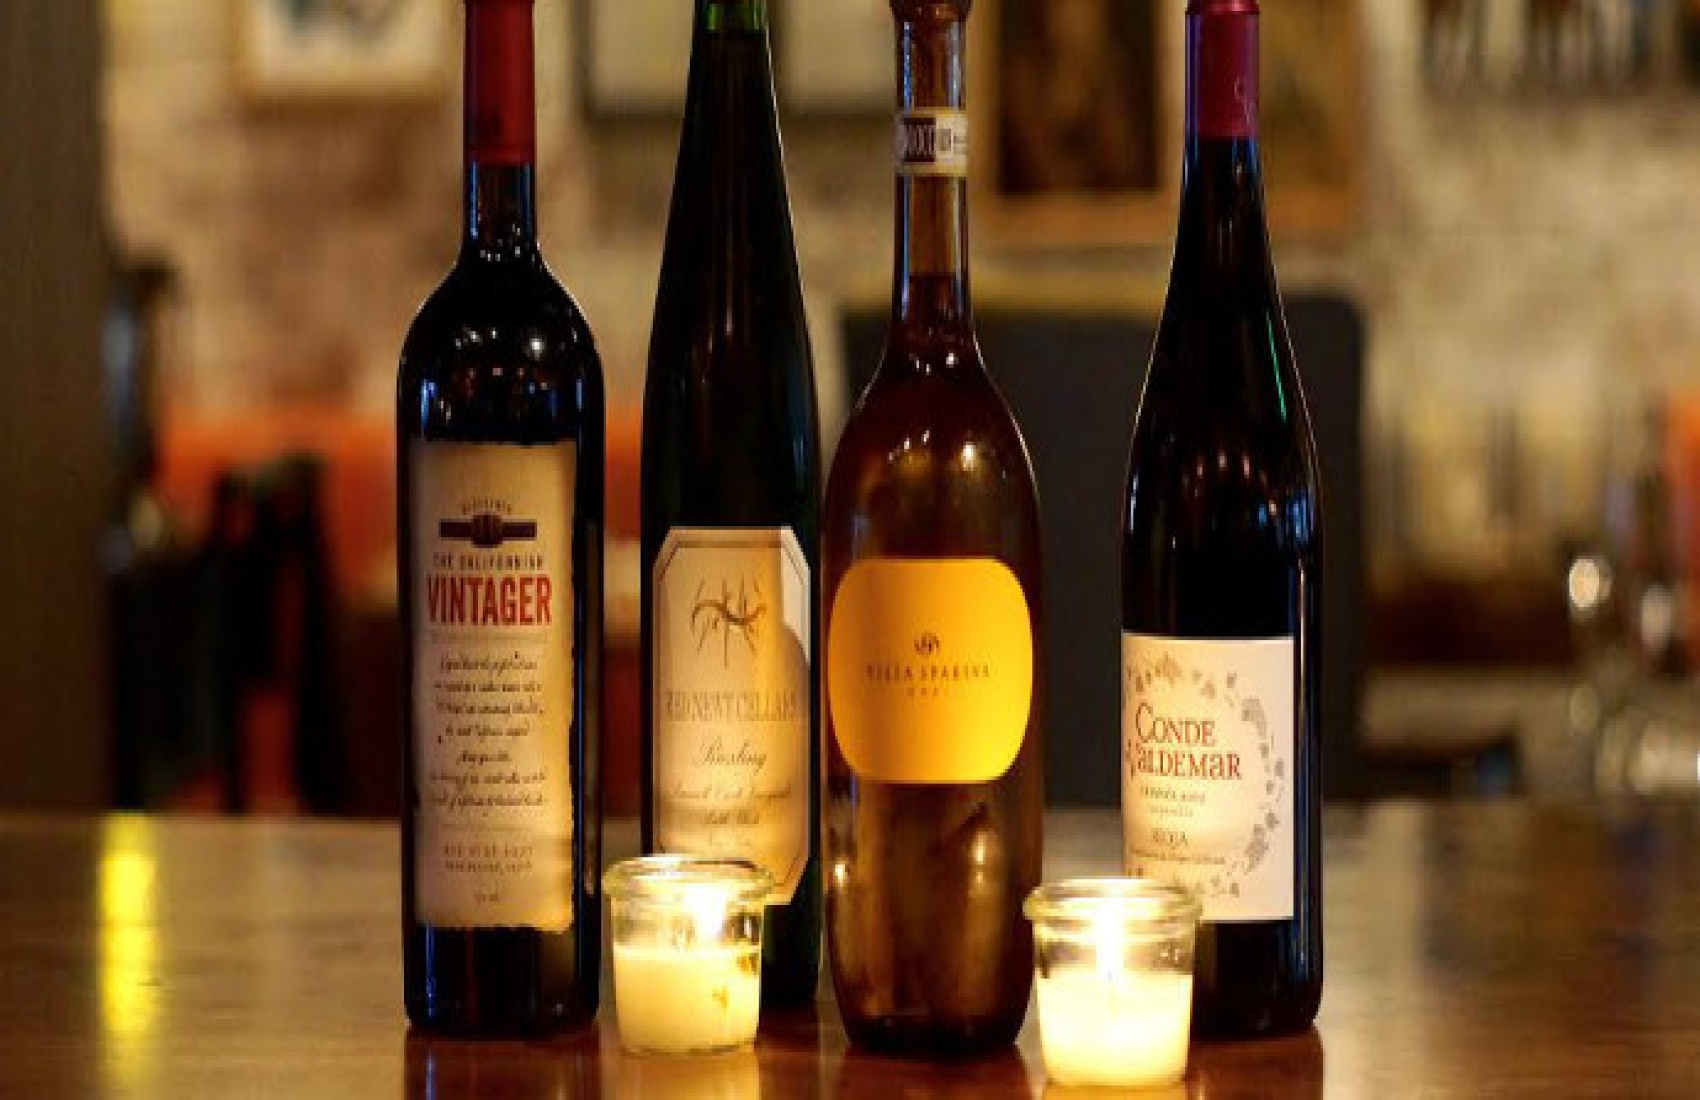wine: (833, 20, 1025, 1029), (400, 12, 587, 1021), (1121, 1, 1308, 1010), (639, 1, 822, 862)
